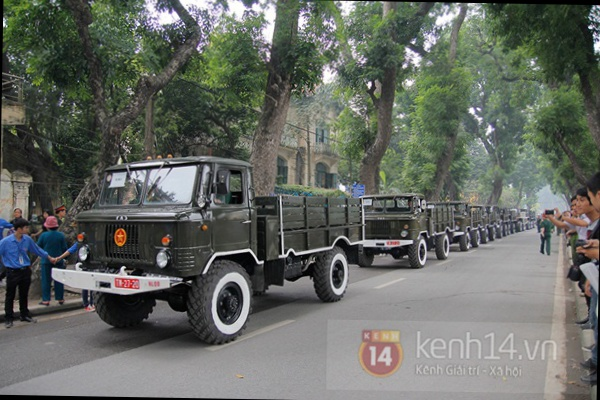plate: (111, 275, 143, 291)
